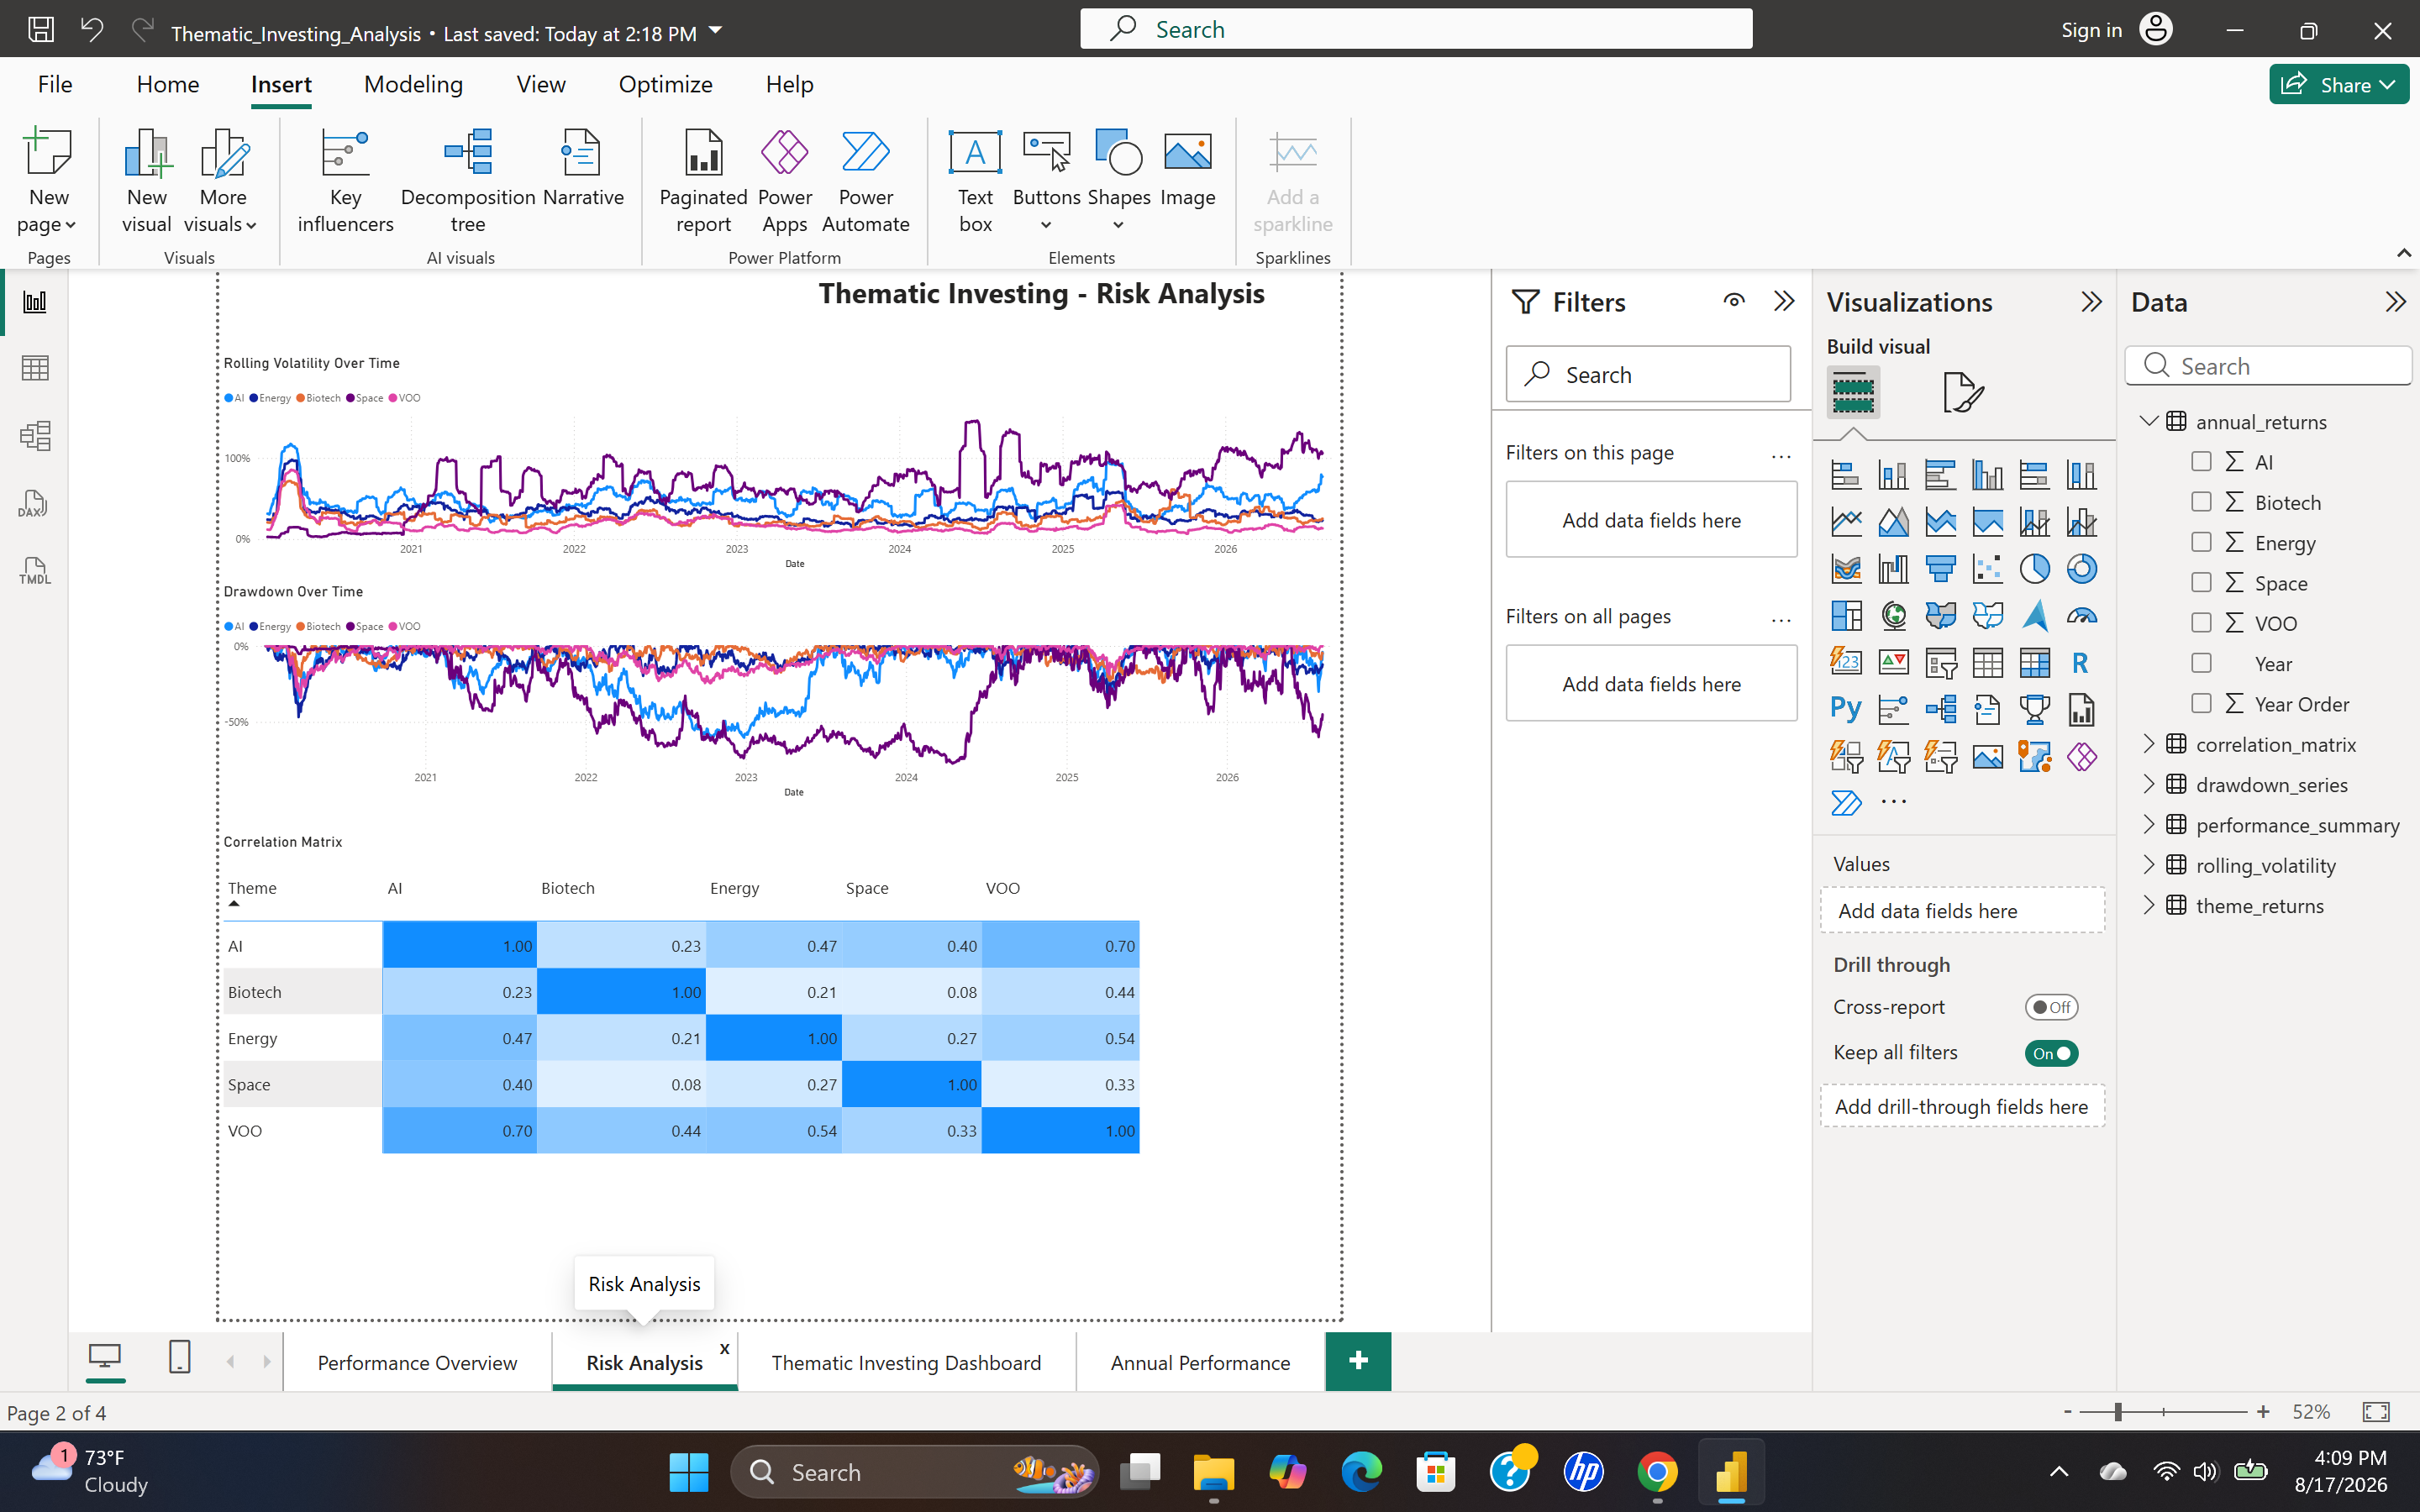

The page's visual inventory and layout, read from the dashboard file:
{"tool":"powerbi","page":{"name":"Risk Analysis","canvas":[1280,1200],"ordinal":1},"visuals":[{"type":"lineChart","title":"Drawdown Over Time","fields":{"Category":["drawdown_series.Date"],"Y":["Sum(drawdown_series.AI)","Sum(drawdown_series.Energy)","Sum(drawdown_series.Biotech)","Sum(drawdown_series.Space)","Sum(drawdown_series.VOO)"]},"box":[0,359.8,1278.5,250],"z":0},{"type":"lineChart","title":"Rolling Volatility Over Time","fields":{"Category":["rolling_volatility.Date"],"Y":["Sum(rolling_volatility.AI)","Sum(rolling_volatility.Energy)","Sum(rolling_volatility.Biotech)","Sum(rolling_volatility.Space)","Sum(rolling_volatility.VOO)"]},"box":[0,98,1278.5,250],"z":1000},{"type":"pivotTable","title":"Correlation Matrix","fields":{"Rows":["correlation_matrix.Theme"],"Values":["Avg(correlation_matrix.AI)","Avg(correlation_matrix.Biotech)","Avg(correlation_matrix.Energy)","Avg(correlation_matrix.Space)","Avg(correlation_matrix.VOO)"]},"box":[0,645.1,1278.7,401.3],"z":2000},{"type":"textbox","box":[679.7,0,602.9,117.1],"z":2001}]}

Visuals, with their boxes on the page's 1280x1200 design canvas (x1, y1, x2, y2). These are canvas units, not pixel positions in the 2420x1512 screenshot, which may show the page scaled, cropped or inside an application window:
"Drawdown Over Time" lineChart: BBox(0, 360, 1278, 610)
"Rolling Volatility Over Time" lineChart: BBox(0, 98, 1278, 348)
"Correlation Matrix" pivotTable: BBox(0, 645, 1279, 1046)
textbox: BBox(680, 0, 1283, 117)
